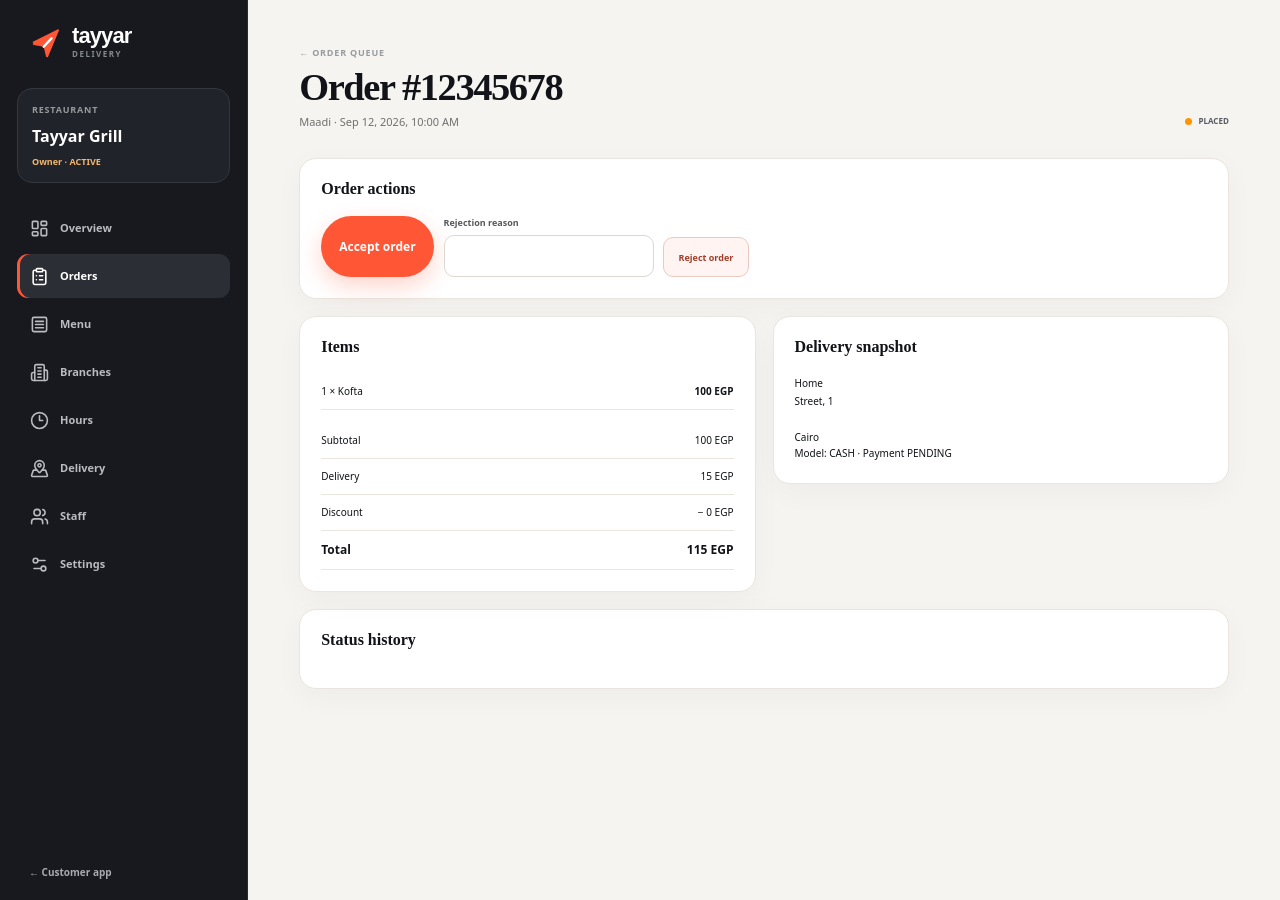
Test: refetches rather than retrying an order transition after a stale 409
The image size is (1280, 900).
Click the button with aria-label "Accept order for order". click: [377, 247]
box: [321,216,434,277]
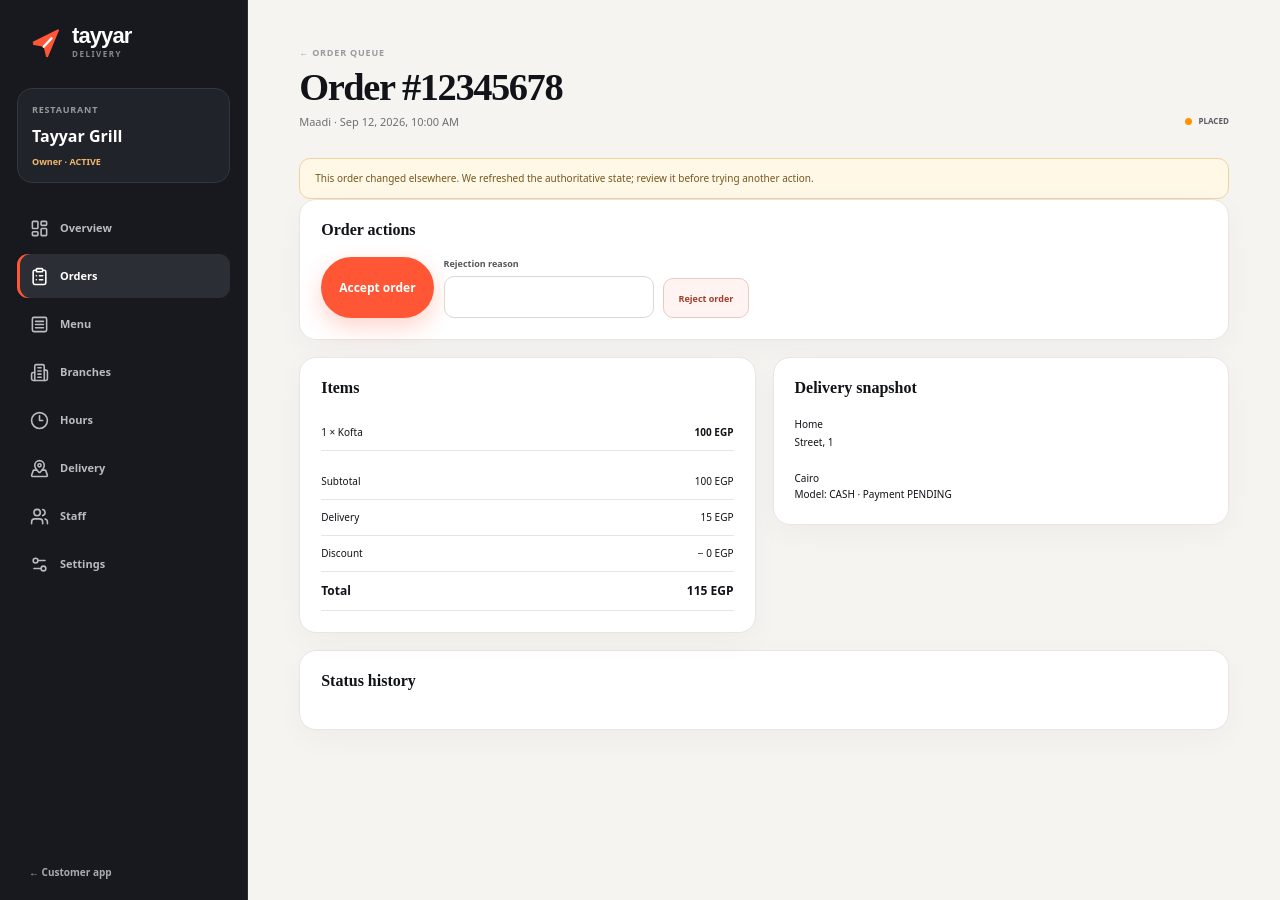
Check: the text "changed elsewhere" is shown, box [315,171,814,185]
